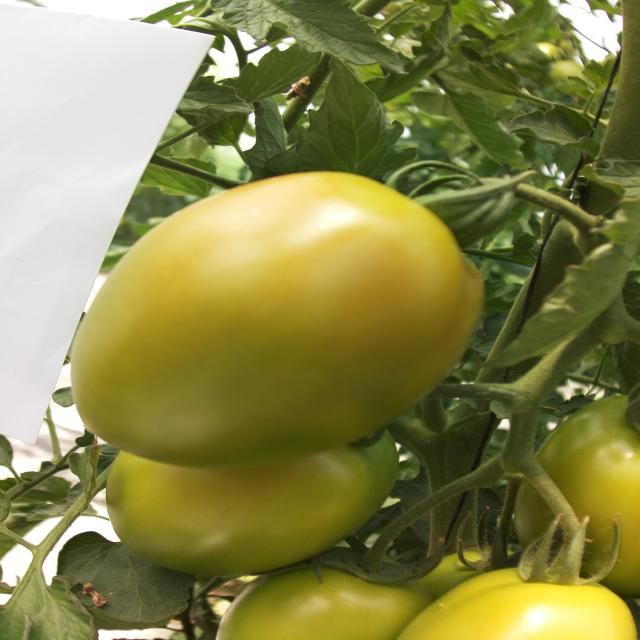sari: (88, 145, 490, 480)
